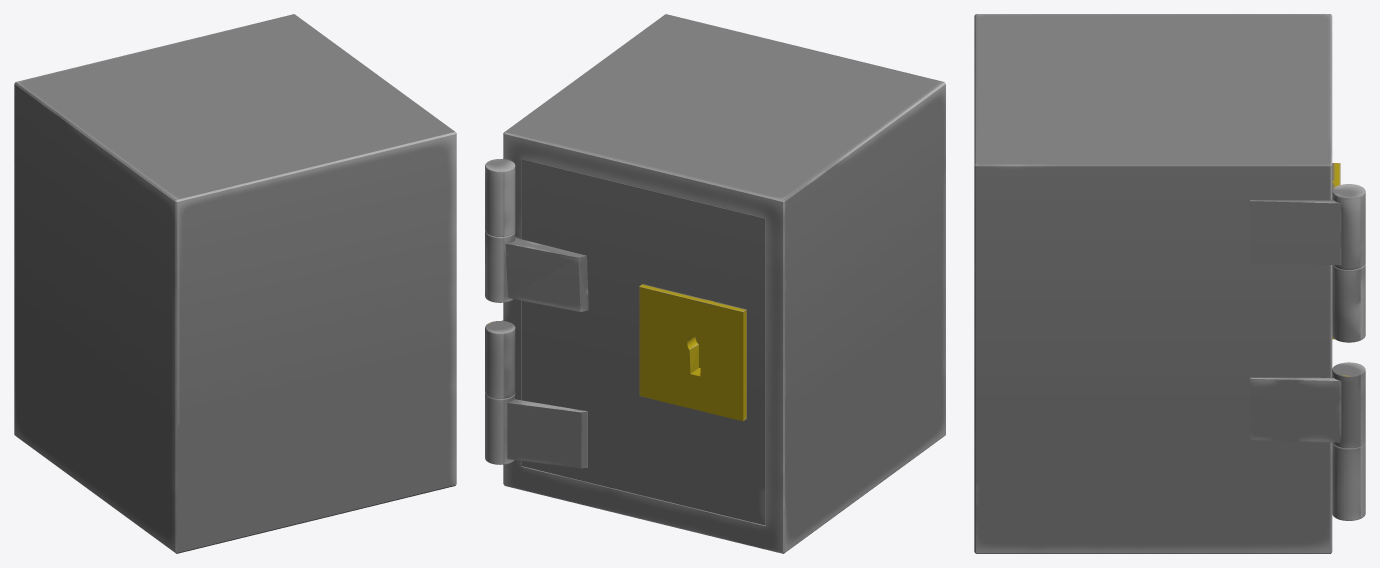
Rendered from safe_fracture.glb.
The picture shows the model from 3 angles, left to right: view 1: azimuth 30°, elevation 25°; view 2: azimuth 150°, elevation 25°; view 3: azimuth 270°, elevation 25°; orthographic projection. The views are drawn at different scales.
Visible parts, largest first — view 1: Cylinder.011; view 2: Cylinder.011, Cylinder.001; view 3: Cylinder.011.
Boxes of the visible parts, left/top/right/bottom form: Cylinder.011: left=14, top=14, right=456, bottom=553; Cylinder.011: left=485, top=14, right=945, bottom=553; Cylinder.001: left=505, top=159, right=765, bottom=525; Cylinder.011: left=974, top=14, right=1365, bottom=553.
Bounding box in the file's own units: 8.44 × 9.87 × 8.97.
Materials: 1 (1 with a texture image).
